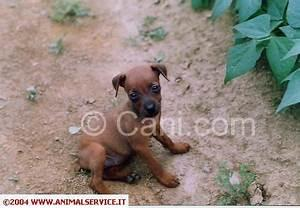dog: (70, 62, 190, 193)
